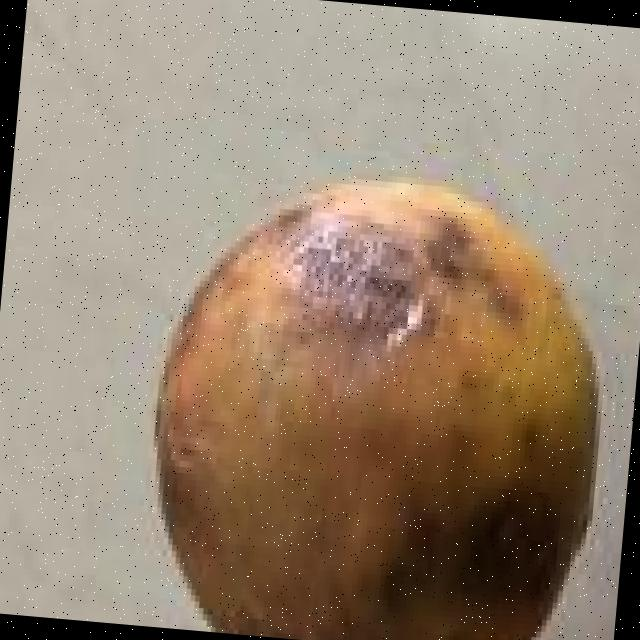Bad_Lime-0-1-day: (153, 172, 607, 640)
